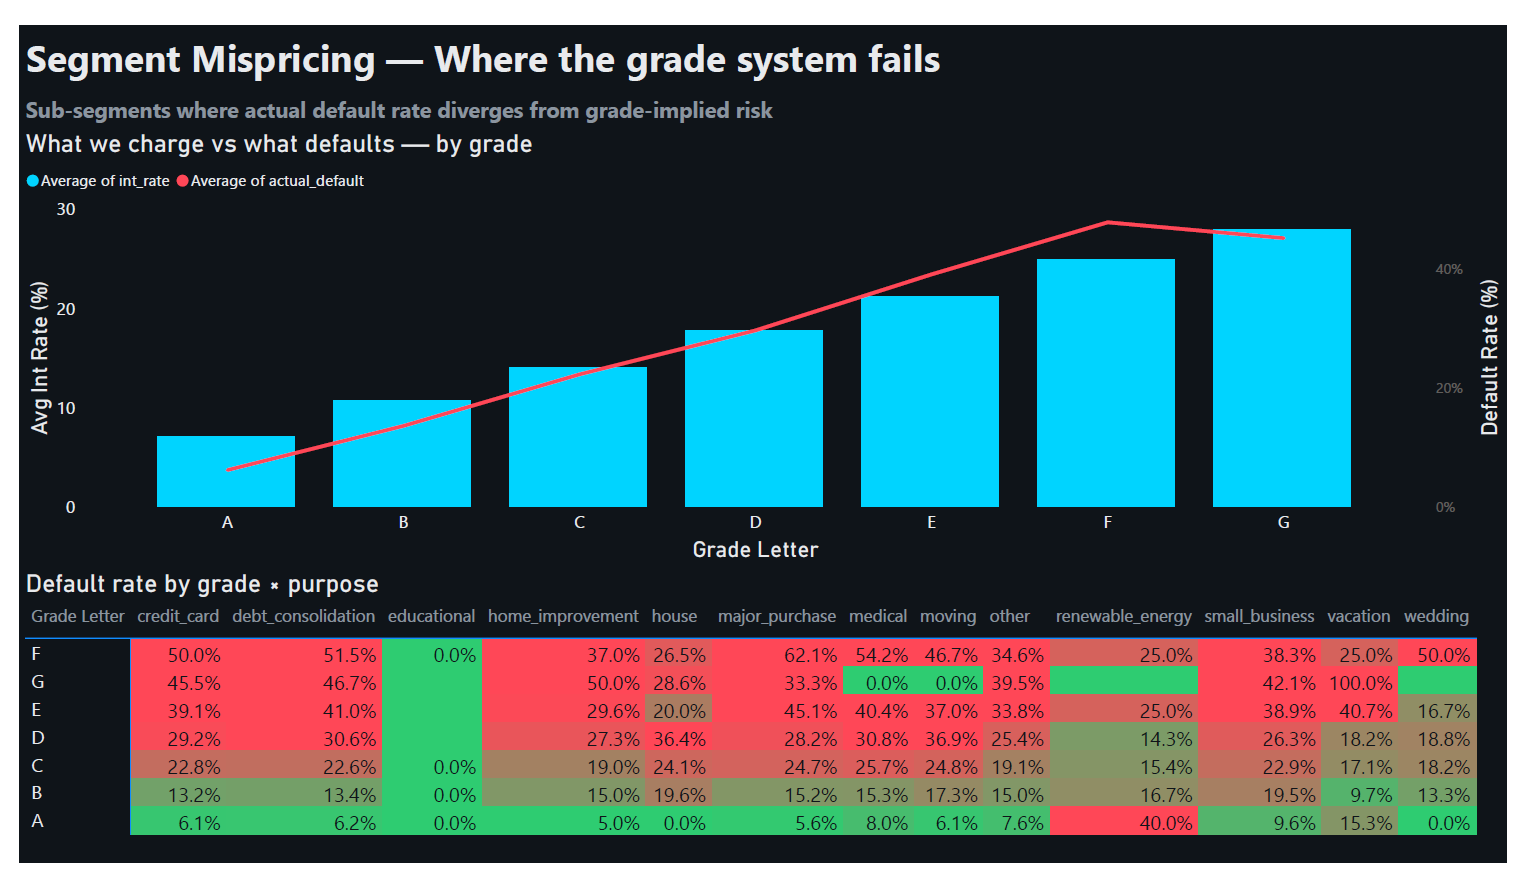

The dashboard page shown, as its layout file describes it:
{"tool":"powerbi","page":{"name":"Segment Mispricing","canvas":[1280,720],"ordinal":2},"visuals":[{"type":"textbox","box":[0,0,817.5,53.8],"z":0},{"type":"textbox","box":[0,53.6,817.2,35.7],"z":1000},{"type":"pivotTable","title":"Default rate by grade × purpose","fields":{"Rows":["loan_predictions.Grade Letter"],"Columns":["loan_predictions.purpose"],"Values":["Avg(loan_predictions.actual_default)"]},"box":[0,467,1279.4,252.6],"z":2000},{"type":"lineClusteredColumnComboChart","title":"What we charge vs what defaults — by grade","fields":{"Category":["loan_predictions.Grade Letter"],"Y":["Avg(loan_predictions.int_rate)"],"Y2":["Avg(loan_predictions.actual_default)"]},"box":[0,89.3,1279.4,377.6],"z":3000}]}

Visuals, with their boxes in screenshot pixels (x1, y1, x2, y2), scaled from the page's 1280x720 canvas onto the 1533x884 screenshot:
textbox: BBox(0, 0, 979, 66)
textbox: BBox(0, 66, 979, 110)
"Default rate by grade × purpose" pivotTable: BBox(0, 573, 1532, 883)
"What we charge vs what defaults — by grade" lineClusteredColumnComboChart: BBox(0, 110, 1532, 573)
